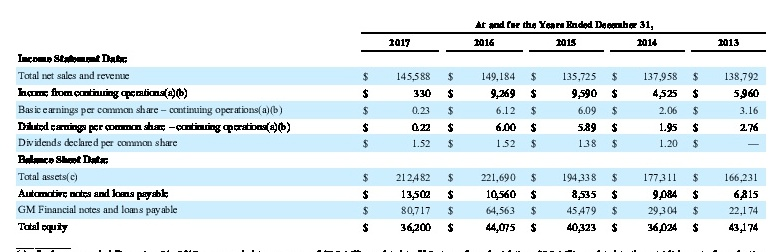table: (0, 0, 782, 252)
